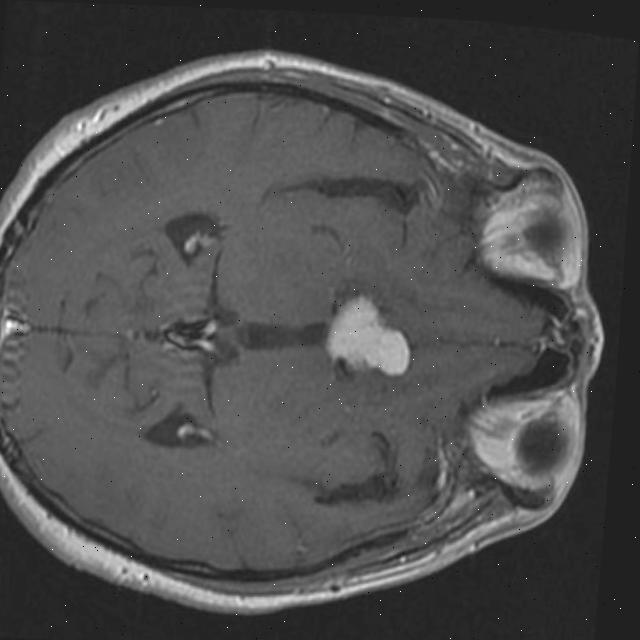Meningioma: (321, 288, 416, 379)
